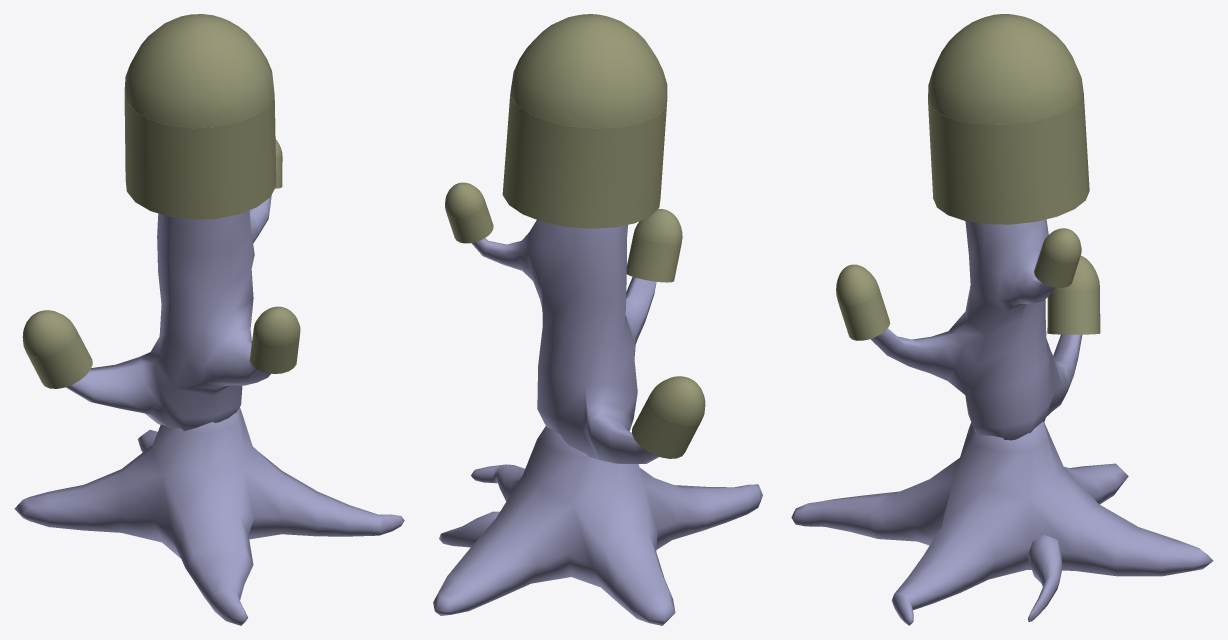
Rendered from tree1.fbx.
3 views of the same model, side by side, from view 1: azimuth 30°, elevation 25°; view 2: azimuth 150°, elevation 25°; view 3: azimuth 270°, elevation 25° (orthographic). The views are drawn at different scales.
Parts seen in each view (by area): view 1: tree1a:pasted__pasted__pSphere4; view 2: tree1a:pasted__pasted__pSphere4; view 3: tree1a:pasted__pasted__pSphere4.
Part boxes in pixels (left/top/right/bottom): tree1a:pasted__pasted__pSphere4: left=14, top=14, right=404, bottom=625; tree1a:pasted__pasted__pSphere4: left=433, top=14, right=762, bottom=625; tree1a:pasted__pasted__pSphere4: left=791, top=14, right=1213, bottom=625.
Bounding box in the file's own units: 17.84 × 29.55 × 21.06.
